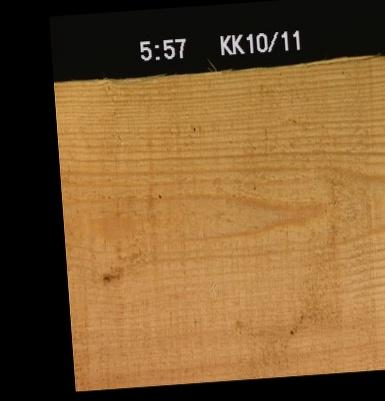small_knot: (98, 271, 110, 284)
